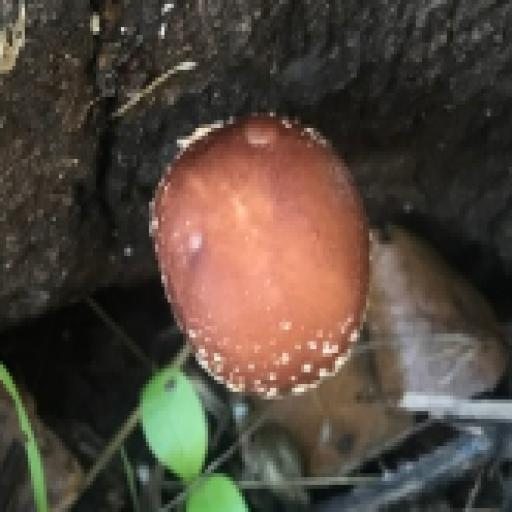Shiitake Mushroom: (140, 108, 385, 400)
